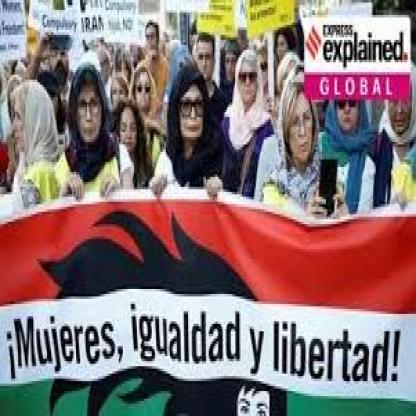BANNER: (0, 192, 416, 416)
